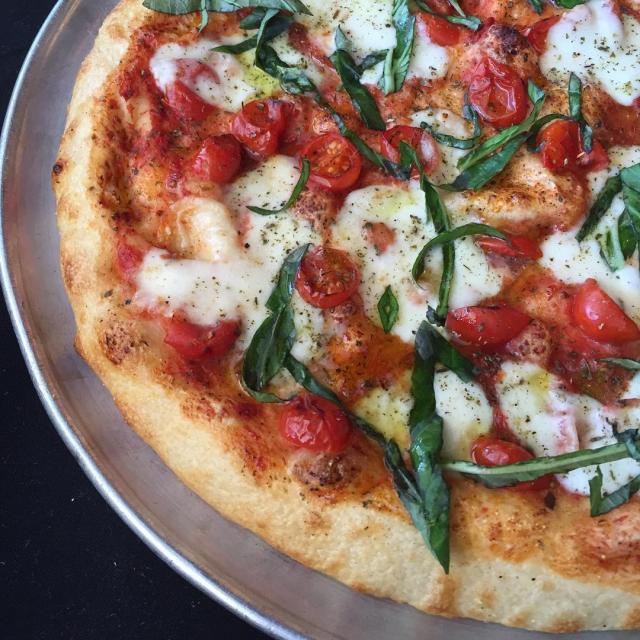basil: (383, 319, 477, 576), (421, 84, 549, 194), (238, 240, 311, 407), (444, 433, 640, 489), (399, 138, 456, 329), (285, 352, 386, 442), (411, 221, 523, 292), (316, 94, 398, 175), (328, 49, 388, 131), (572, 172, 624, 244), (210, 14, 298, 56), (378, 0, 416, 96), (142, 0, 315, 19), (584, 464, 640, 518), (563, 74, 599, 153), (614, 162, 640, 260), (414, 0, 486, 34), (276, 64, 323, 105), (376, 283, 402, 334), (594, 226, 622, 273), (240, 9, 268, 29)
pizza: (48, 0, 640, 636)
tomatoes: (470, 436, 558, 496), (276, 391, 353, 455), (566, 277, 640, 343), (161, 306, 243, 363), (296, 245, 363, 310), (161, 55, 221, 124), (538, 118, 613, 172), (464, 55, 524, 122), (443, 305, 534, 348), (298, 130, 362, 190), (380, 125, 439, 180), (230, 100, 287, 156), (192, 132, 243, 184), (480, 228, 544, 263), (411, 11, 463, 48), (528, 12, 564, 54)
